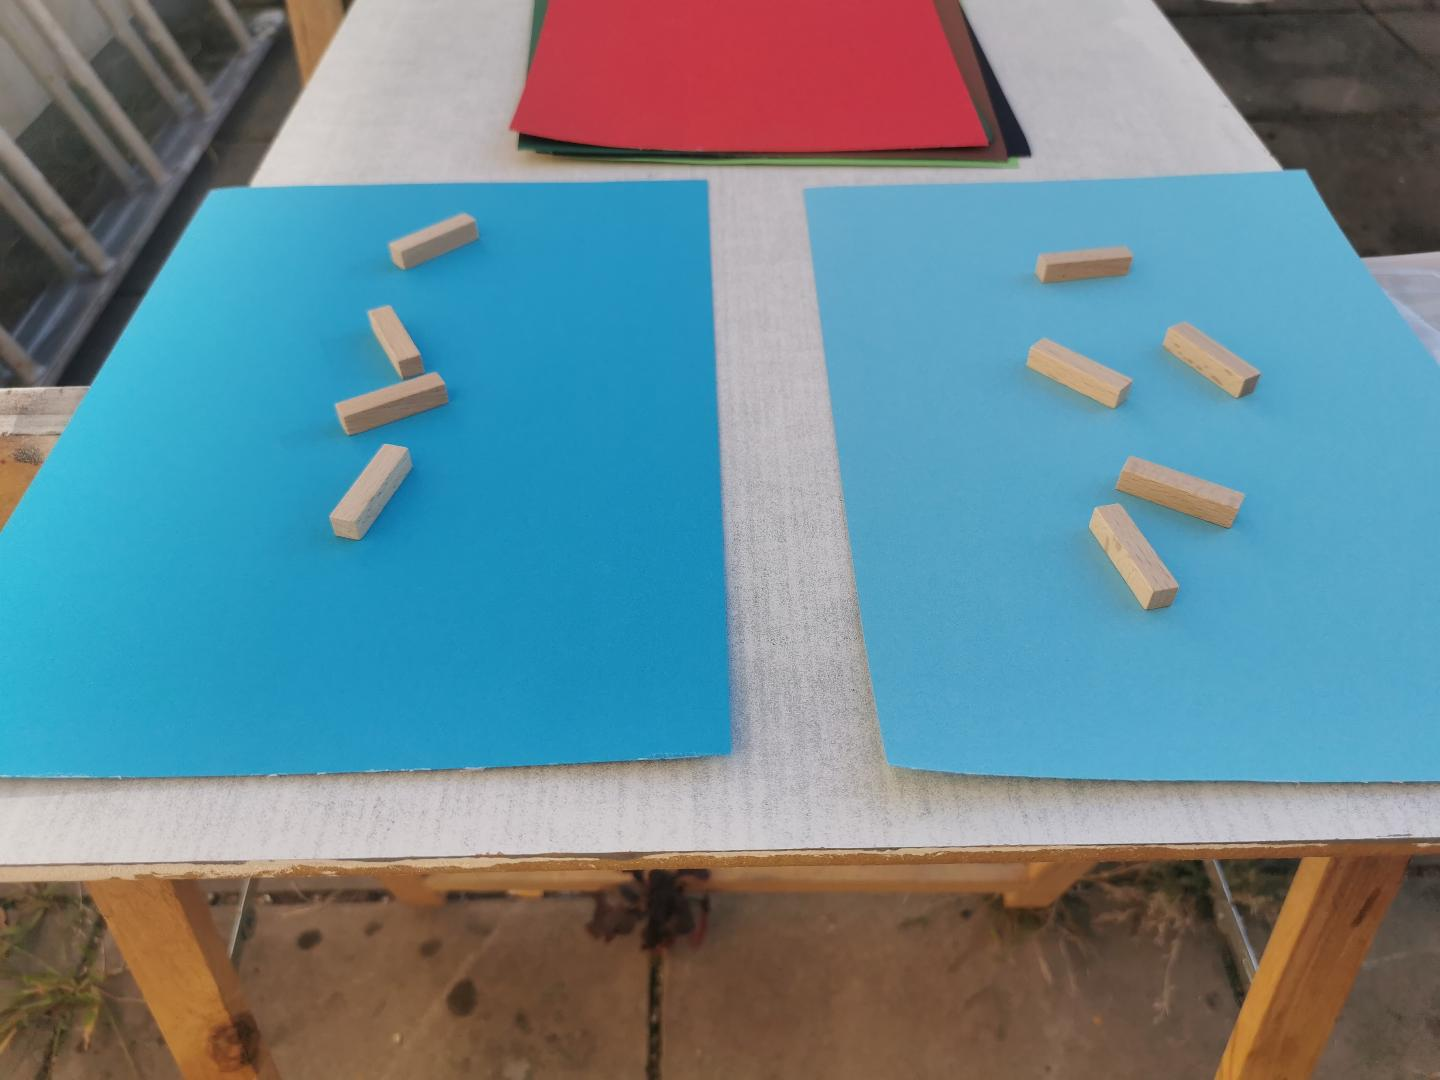jenga: (1089, 504, 1178, 610), (1117, 456, 1243, 529), (329, 445, 410, 540), (1026, 338, 1134, 407), (334, 371, 447, 436), (1164, 323, 1260, 397), (388, 213, 478, 270), (369, 306, 425, 380), (1035, 247, 1134, 284)
